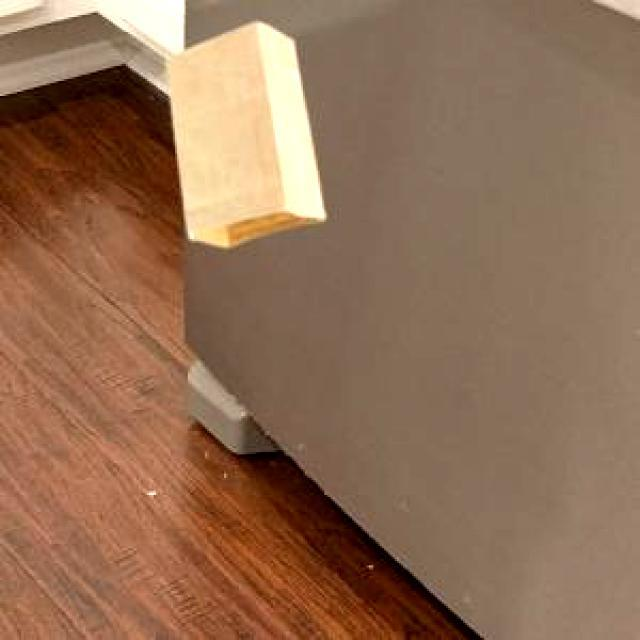Paper_Bag: (163, 21, 321, 244)
